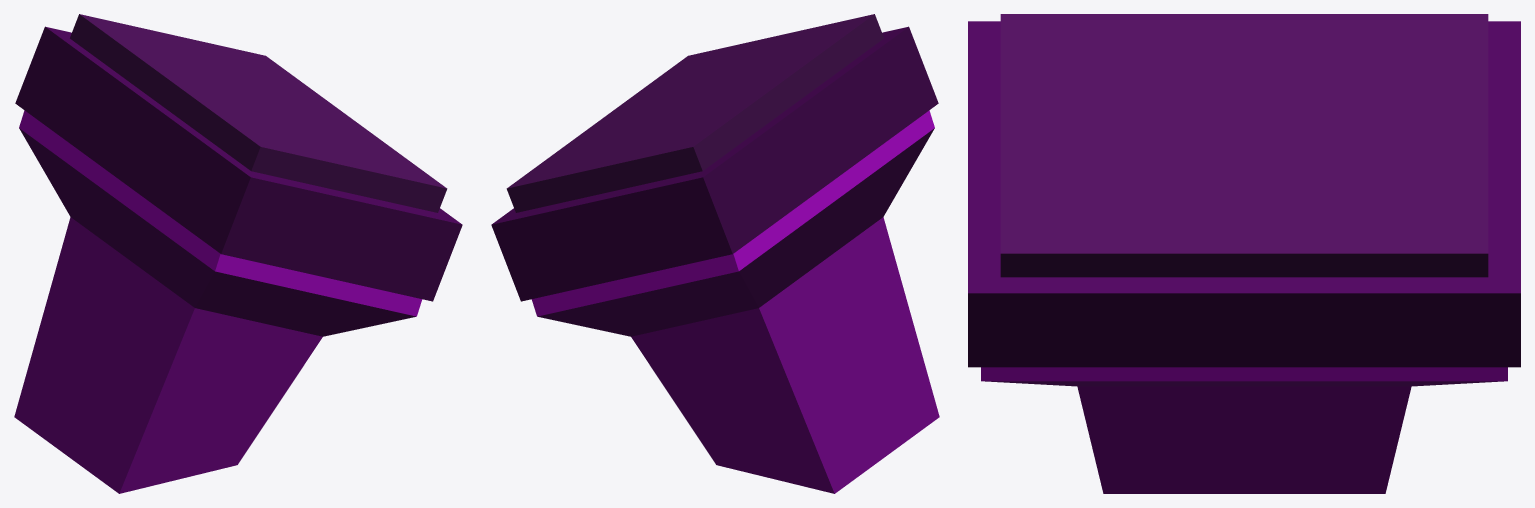
File: fusionCheck.glb
3 views of the same model, side by side, from view 1: azimuth 30°, elevation 25°; view 2: azimuth 150°, elevation 25°; view 3: azimuth 270°, elevation 25° (orthographic). The views are drawn at different scales.
Visible parts, largest first — view 1: fusionCheck; view 2: fusionCheck; view 3: fusionCheck.
Part boxes in pixels (x1=…): fusionCheck: x1=14, y1=14, x2=462, y2=493; fusionCheck: x1=491, y1=14, x2=939, y2=493; fusionCheck: x1=968, y1=14, x2=1520, y2=493.
Bounding box in the file's own units: 0.0301 × 0.0343 × 0.0366.
1 material, 1 textured.
